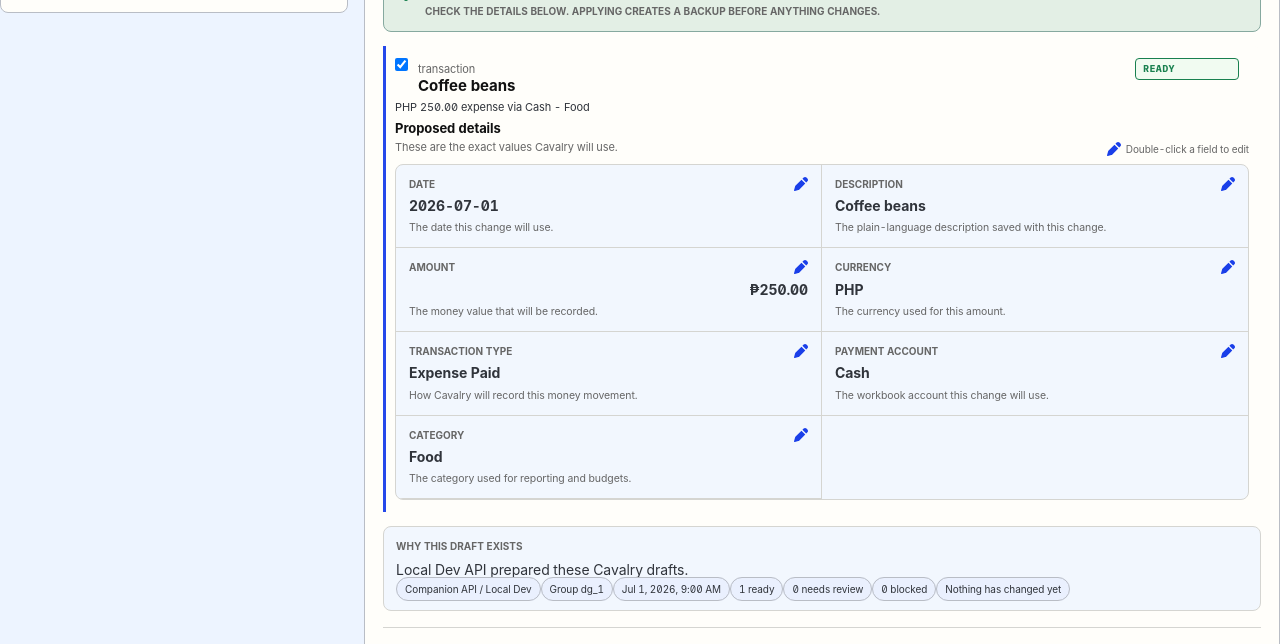
Test case: draft and checkpoint interactions › edits a proposed money field on double-click before applying
This screenshot has width=1280, height=644.
(page scrolled)
Double-click the button with aria-label "Amount: ₱250.00" at (432, 267), box 396,248 -> 822,332
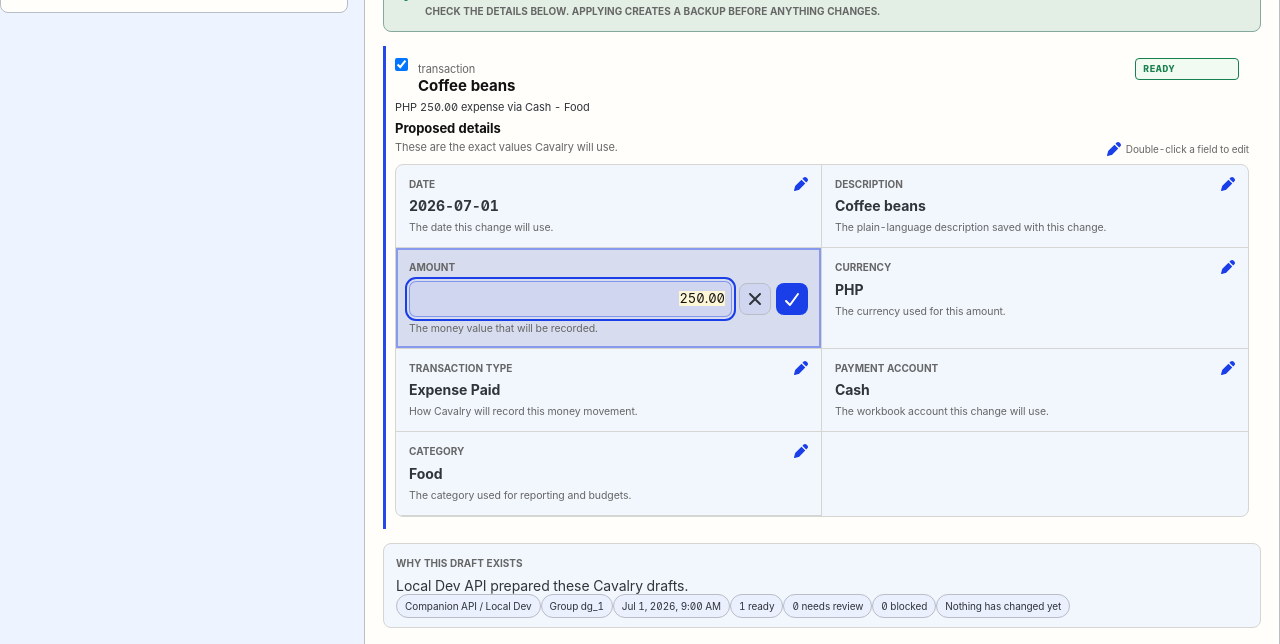
Replace the text in the field named "Edit Amount" with "1,000.50" at (570, 299), box 409,281 -> 732,317
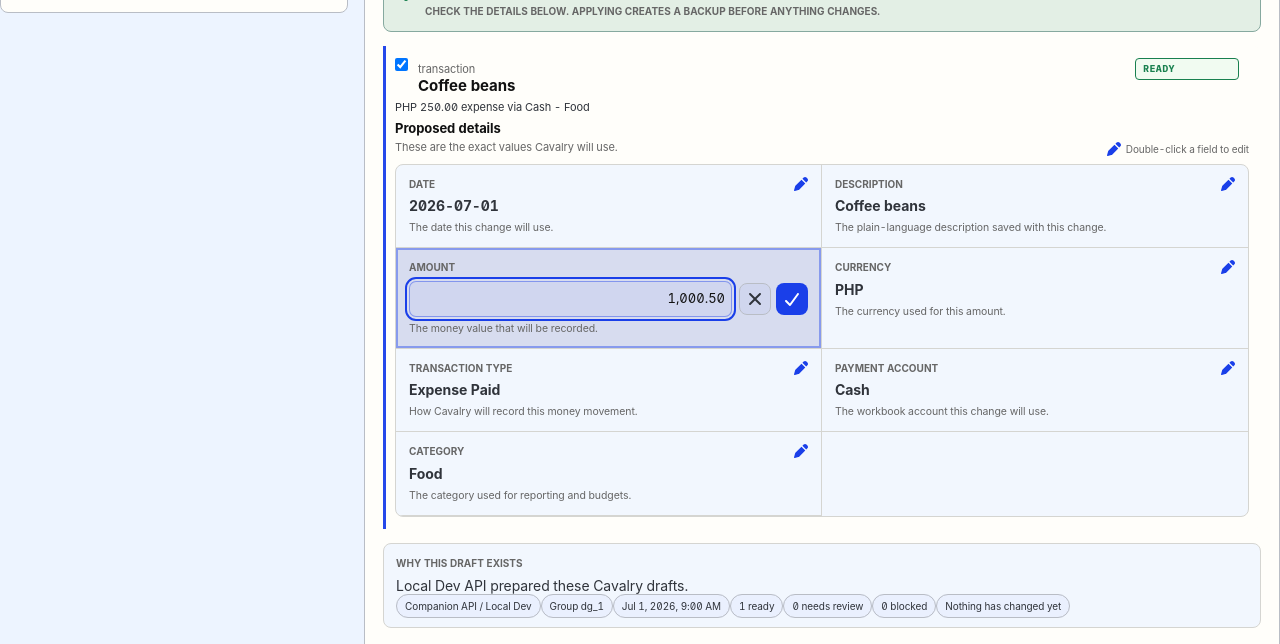
Click the button named "Save Amount" at (792, 299), box 776,283 -> 808,315
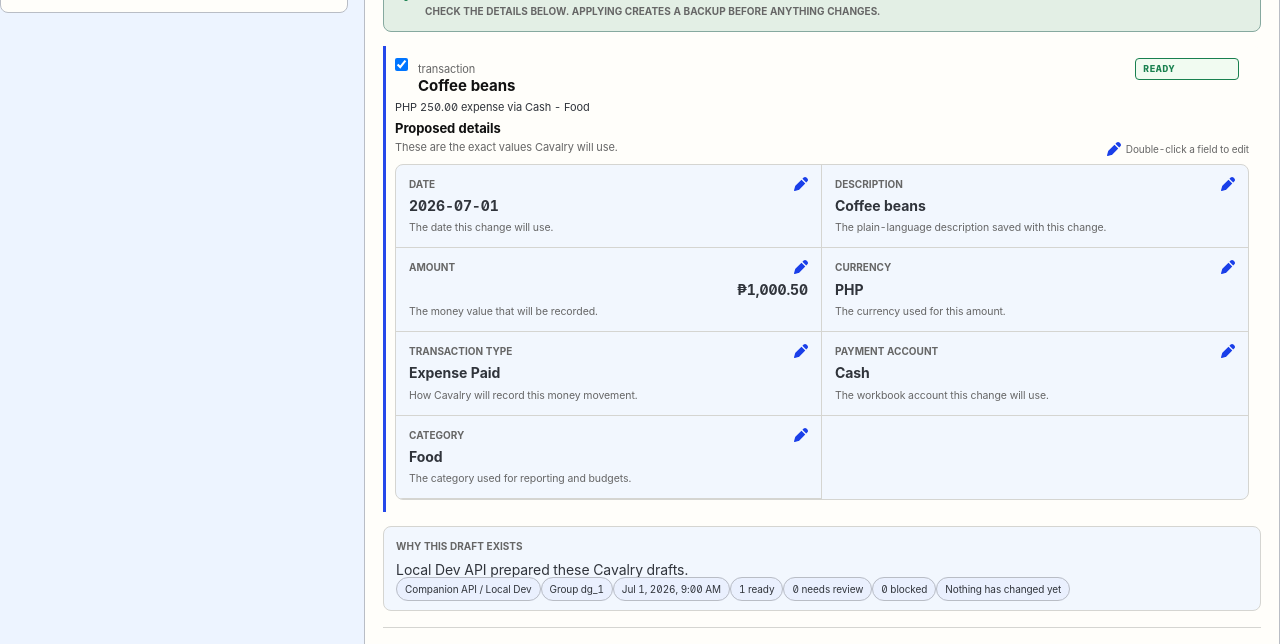
Expected: the text "₱1,000.50" is shown, 737,281 -> 808,298
